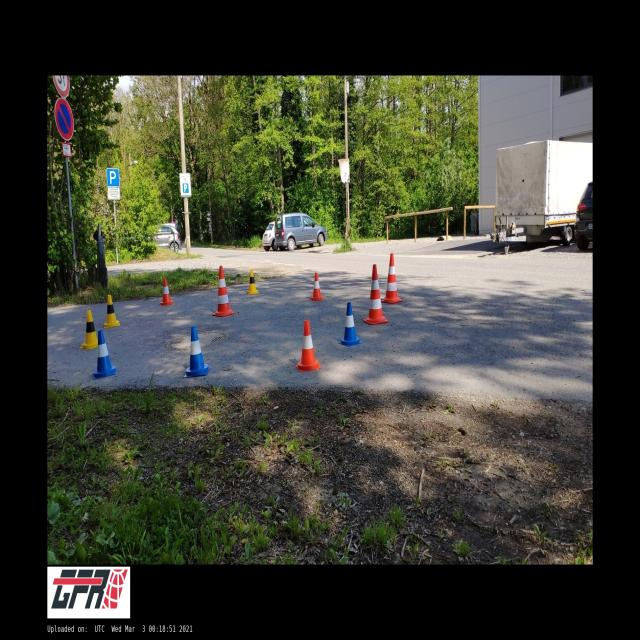blue_cone: (184, 326, 210, 378), (94, 330, 116, 380), (338, 303, 363, 346)
large_orange_cone: (364, 265, 388, 324), (212, 266, 235, 316), (381, 254, 403, 303)
orange_cone: (296, 320, 321, 372), (310, 273, 324, 301), (160, 278, 173, 305)
yellow_cone: (79, 310, 98, 349), (104, 295, 120, 328), (246, 270, 259, 294)
